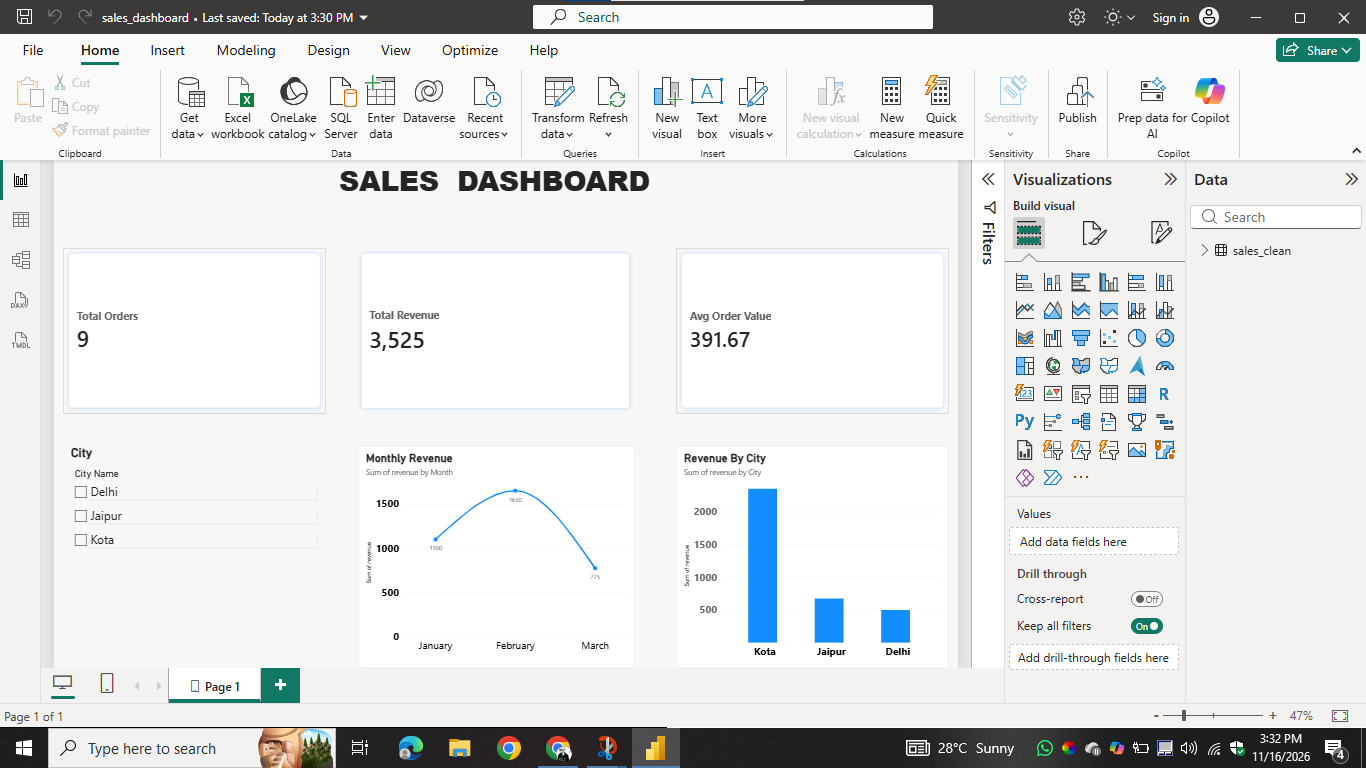

Layout of this report page (visuals, bound fields, positions):
{"tool":"powerbi","page":{"name":"Page 1","canvas":[1920,1080],"ordinal":0},"visuals":[{"type":"clusteredColumnChart","title":"Revenue By City","fields":{"Category":["sales_clean.city"],"Y":["Sum(sales_clean.revenue)"]},"box":[1322.4,605.9,580.4,474.1],"z":0},{"type":"lineChart","title":"Monthly Revenue","fields":{"Category":["sales_clean.date.Variation.Date Hierarchy.Month"],"Y":["Sum(sales_clean.revenue)"]},"box":[646.3,605.9,588.9,474.1],"z":1000},{"type":"cardVisual","title":"Revenue Number","fields":{"Data":["sales_clean.revenue display"]},"box":[642,187.1,593.1,352.9],"z":2000},{"type":"slicer","title":"City","fields":{"Values":["sales_clean.city"]},"box":[36.1,605.9,525.1,474.1],"z":3000},{"type":"cardVisual","title":"Orders","fields":{"Data":["sales_clean.total orders"]},"box":[19.1,187.1,559.1,352.9],"z":4000},{"type":"cardVisual","fields":{"Data":["sales_clean.avg order value"]},"box":[1322.4,187.1,580.4,352.9],"z":5000},{"type":"textbox","box":[19.1,0,1326.6,278.5],"z":5001}]}

Visuals, with their boxes on the page's 1920x1080 design canvas (x1, y1, x2, y2). These are canvas units, not pixel positions in the 1366x768 screenshot, which may show the page scaled, cropped or inside an application window:
"Revenue By City" clusteredColumnChart: crop(1322, 606, 1903, 1080)
"Monthly Revenue" lineChart: crop(646, 606, 1235, 1080)
"Revenue Number" cardVisual: crop(642, 187, 1235, 540)
"City" slicer: crop(36, 606, 561, 1080)
"Orders" cardVisual: crop(19, 187, 578, 540)
cardVisual - sales_clean.avg order value: crop(1322, 187, 1903, 540)
textbox: crop(19, 0, 1346, 278)
